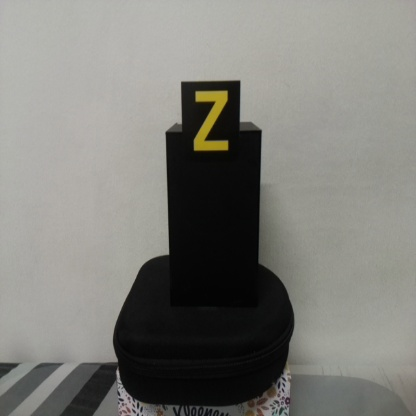id_15: (180, 82, 240, 168)
